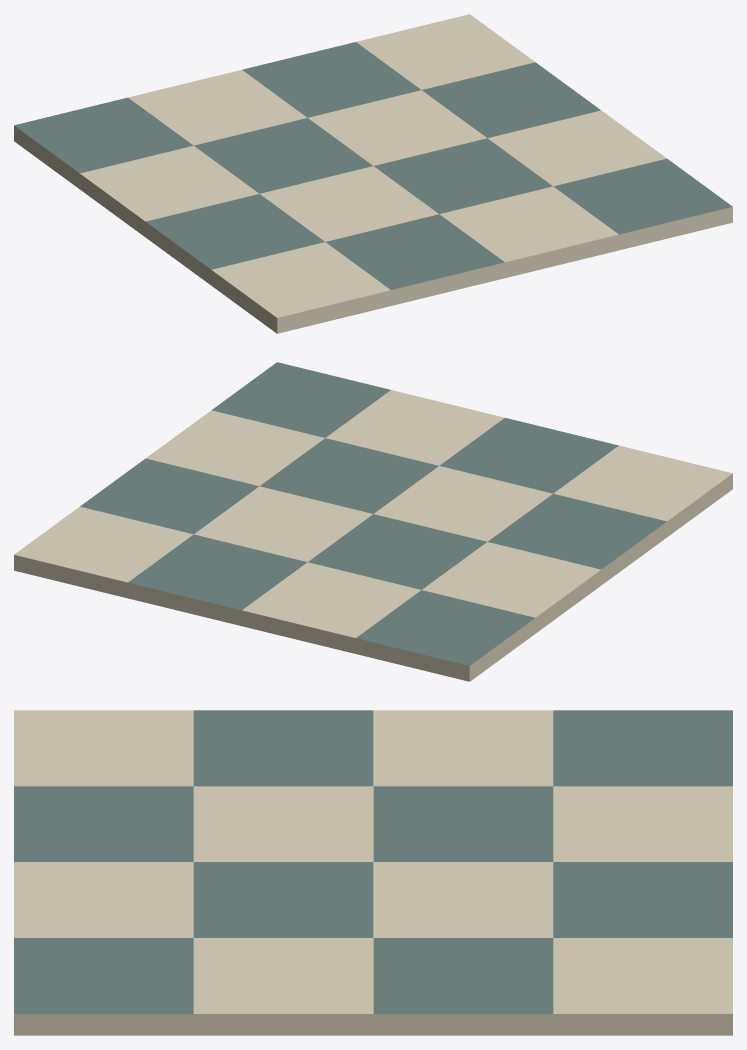
The model's file is roman_floor_4.fbx.
The picture shows the model from 3 angles, top to bottom: view 1: azimuth 30°, elevation 25°; view 2: azimuth 150°, elevation 25°; view 3: azimuth 270°, elevation 25°; orthographic projection. The views are drawn at different scales.
Parts seen in each view (by area): view 1: Cube.074; view 2: Cube.074; view 3: Cube.074.
Part boxes in pixels (bbox=[...]): Cube.074: bbox=[14, 14, 732, 333]; Cube.074: bbox=[14, 362, 732, 681]; Cube.074: bbox=[14, 710, 732, 1035].
Bounding box in the file's own units: 3 × 0.1 × 3.
